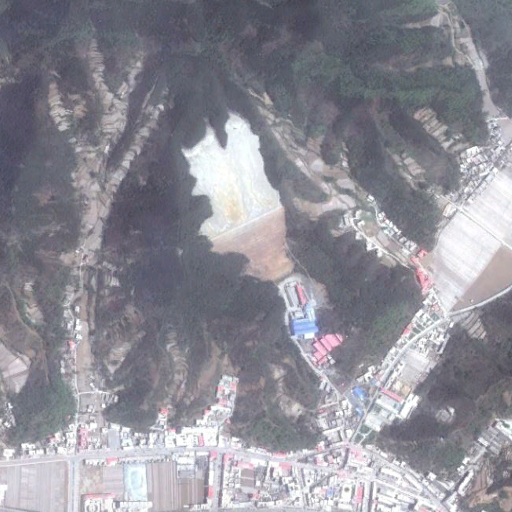tp: (186, 111, 312, 283)
